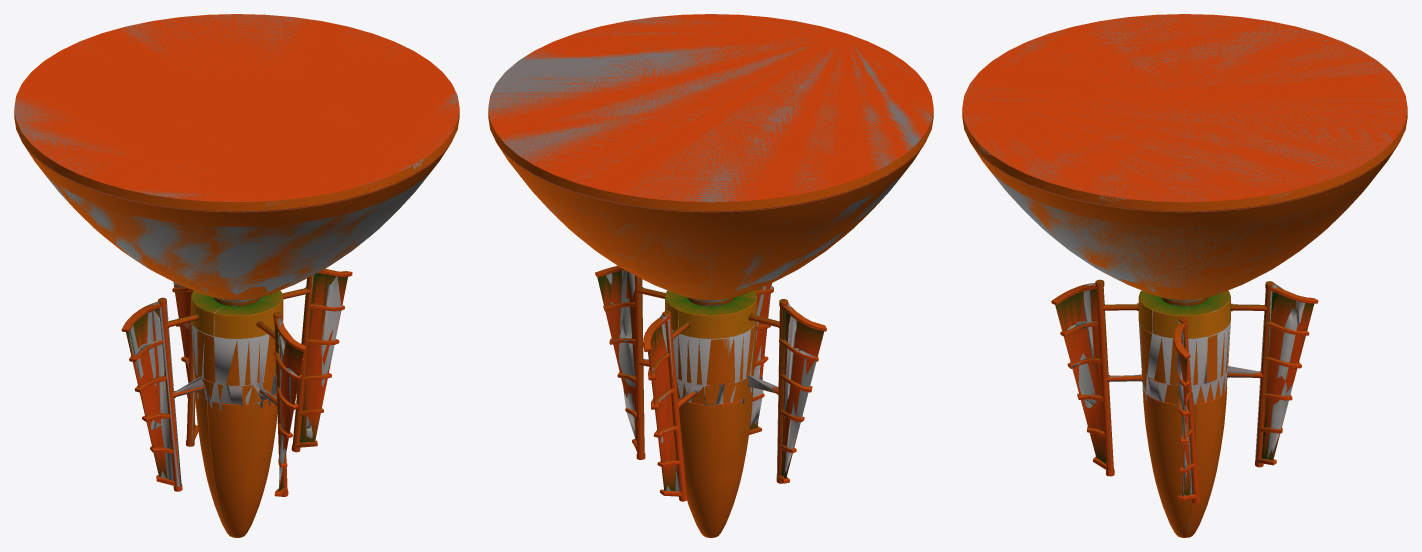
The model's file is KB3D_CSK_PropPropellerC_A.glb.
3 renders of one model, left to right at view 1: azimuth 30°, elevation 25°; view 2: azimuth 150°, elevation 25°; view 3: azimuth 270°, elevation 25°, orthographic.
Parts seen in each view (by area): view 1: L0, L1, L2; view 2: L0, L1, L2; view 3: L0, L1, L2.
Part boxes in pixels (left/top/right/bottom): L0: left=14, top=14, right=459, bottom=537; L1: left=14, top=14, right=459, bottom=535; L2: left=14, top=14, right=459, bottom=527; L0: left=488, top=14, right=933, bottom=537; L1: left=488, top=14, right=933, bottom=535; L2: left=488, top=14, right=932, bottom=496; L0: left=962, top=14, right=1407, bottom=537; L1: left=964, top=14, right=1407, bottom=501; L2: left=964, top=14, right=1406, bottom=537.
Bounding box in the file's own units: 9.49 × 10.05 × 9.49.
